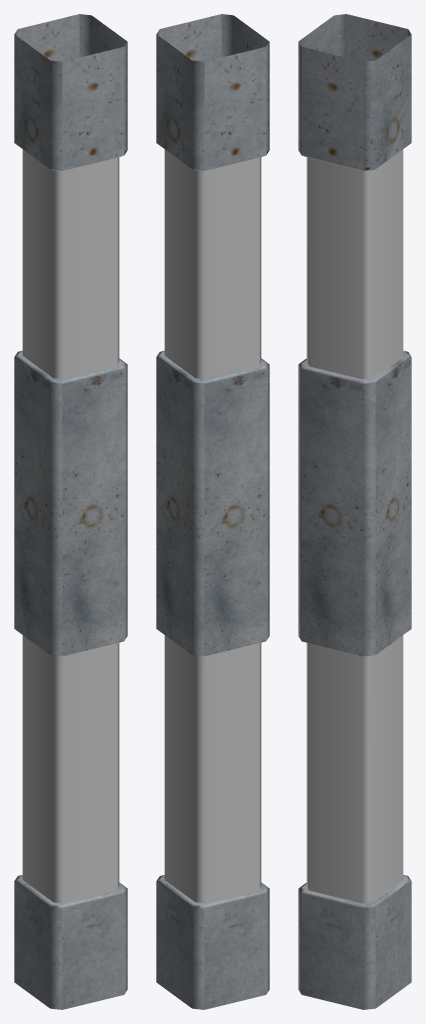
The model's file is Ob_WoodSupportVert_RC.fbx.
The picture shows the model from 3 angles, left to right: view 1: azimuth 30°, elevation 25°; view 2: azimuth 210°, elevation 25°; view 3: azimuth 330°, elevation 25°; orthographic projection.
Visible parts, largest first — view 1: Ob_WoodSupportVert_RC; view 2: Ob_WoodSupportVert_RC; view 3: Ob_WoodSupportVert_RC.
Boxes of the visible parts, x1,y1,x2,y2 form: Ob_WoodSupportVert_RC: [14, 14, 127, 1009]; Ob_WoodSupportVert_RC: [156, 14, 269, 1009]; Ob_WoodSupportVert_RC: [298, 14, 411, 1009].
Size of the model in its own units: 97.67 by 1144 by 97.67.
